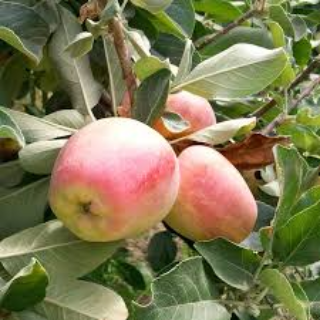tao: (49, 114, 183, 248)
